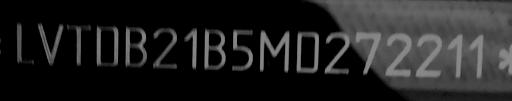letter: (256, 26, 292, 77), (224, 22, 258, 75), (147, 22, 181, 73), (350, 27, 384, 78), (62, 17, 94, 70), (34, 18, 68, 67), (412, 31, 446, 80), (322, 28, 352, 81), (382, 31, 412, 82), (90, 21, 120, 70), (292, 28, 322, 77), (442, 33, 472, 82), (176, 21, 202, 74), (11, 18, 39, 67), (120, 23, 148, 72), (200, 24, 226, 75), (466, 31, 490, 80)
